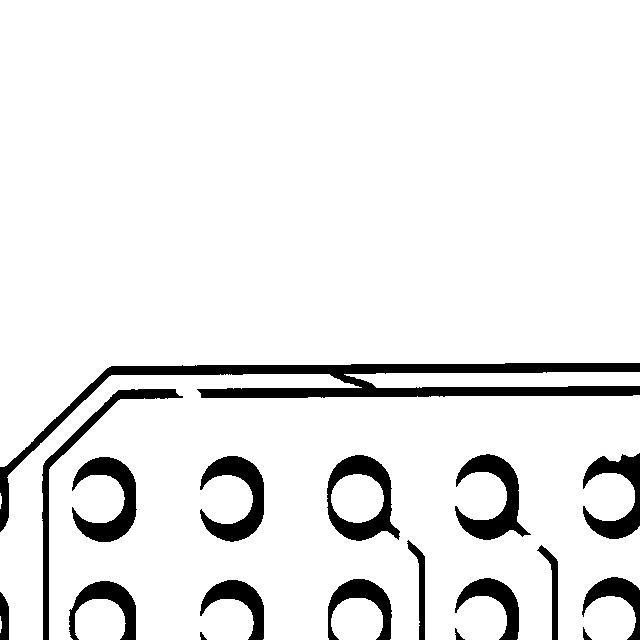mousebite: (594, 439, 631, 471)
open: (166, 374, 210, 410), (512, 525, 551, 560), (389, 519, 417, 560)
short: (319, 359, 385, 401), (59, 596, 86, 639)
